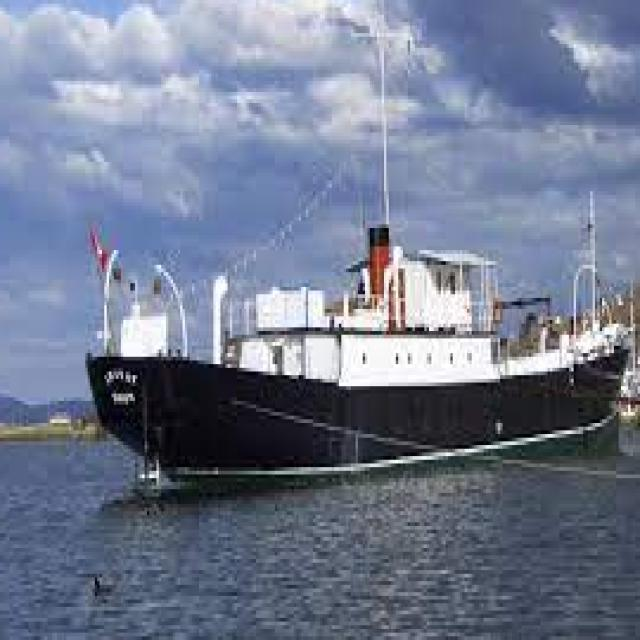houseboat: (73, 147, 634, 501)
